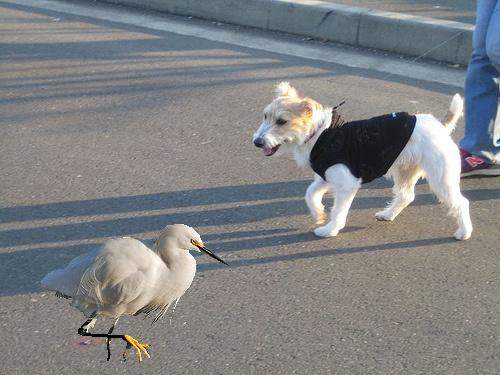tampered: (41, 225, 231, 363)
